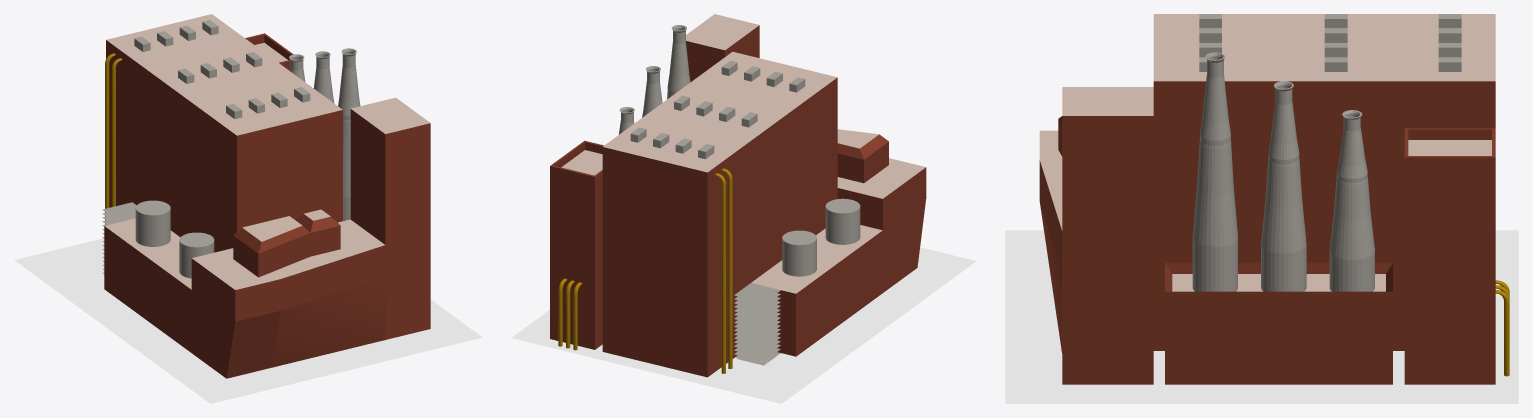
The model's file is FactoryNormal.fbx.
3 renders of one model, left to right at view 1: azimuth 30°, elevation 25°; view 2: azimuth 150°, elevation 25°; view 3: azimuth 270°, elevation 25°, orthographic. The views are drawn at different scales.
Visible parts, largest first — view 1: BaseBuilding, SideBuilding, BackBuilding_01, Floor, Chimney_1, Tinaco_01, Tinaco_02, BackBuilding_02, Chimney_2, Tube, Tube_1, Plane_01; view 2: BaseBuilding, SideBuilding, Floor, BackBuilding_02, BackBuilding_01, Tinaco_02, Tinaco_01, Chimney_1, Tube_1, Tube, Chimney_2, Plane_01; view 3: BaseBuilding, BackBuilding_01, BackBase_01, BackBuilding_02, Floor, Chimney_1, Chimney_2, Chimney_3, SideBuilding.
Part boxes in pixels (box(x1,y1,x2,y2)): BaseBuilding: box(106, 14, 342, 252); SideBuilding: box(104, 209, 385, 378); BackBuilding_01: box(350, 97, 430, 339); Floor: box(14, 238, 482, 403); Chimney_1: box(338, 48, 360, 221); Tinaco_01: box(135, 200, 170, 246); Tinaco_02: box(179, 232, 214, 278); BackBuilding_02: box(245, 33, 293, 70); Chimney_2: box(313, 51, 334, 102); Tube: box(105, 65, 109, 224); Tube_1: box(111, 69, 115, 206); Plane_01: box(102, 202, 136, 222); BaseBuilding: box(602, 51, 837, 377); SideBuilding: box(751, 129, 926, 356); Floor: box(511, 247, 976, 403); BackBuilding_02: box(550, 140, 603, 349); BackBuilding_01: box(686, 14, 759, 81); Tinaco_02: box(825, 198, 860, 244); Tinaco_01: box(782, 230, 816, 276); Chimney_1: box(667, 25, 690, 99); Tube_1: box(728, 180, 732, 368); Tube: box(721, 185, 725, 373); Chimney_2: box(642, 66, 662, 117); Plane_01: box(734, 282, 780, 302); BaseBuilding: box(1153, 14, 1495, 350); BackBuilding_01: box(1062, 87, 1153, 384); BackBase_01: box(1165, 262, 1392, 384); BackBuilding_02: box(1404, 128, 1495, 384); Floor: box(1005, 230, 1518, 403); Chimney_1: box(1192, 52, 1237, 291); Chimney_2: box(1261, 81, 1306, 291); Chimney_3: box(1329, 110, 1374, 291); SideBuilding: box(1039, 116, 1062, 353).
Bounding box in the file's own units: 1800 × 1516 × 2250.
